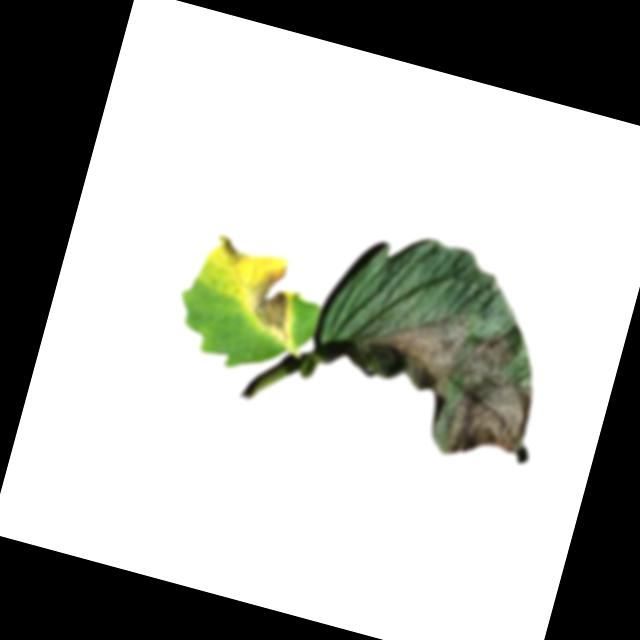Late_blight: (336, 290, 562, 476), (241, 259, 305, 338), (219, 232, 253, 265)
